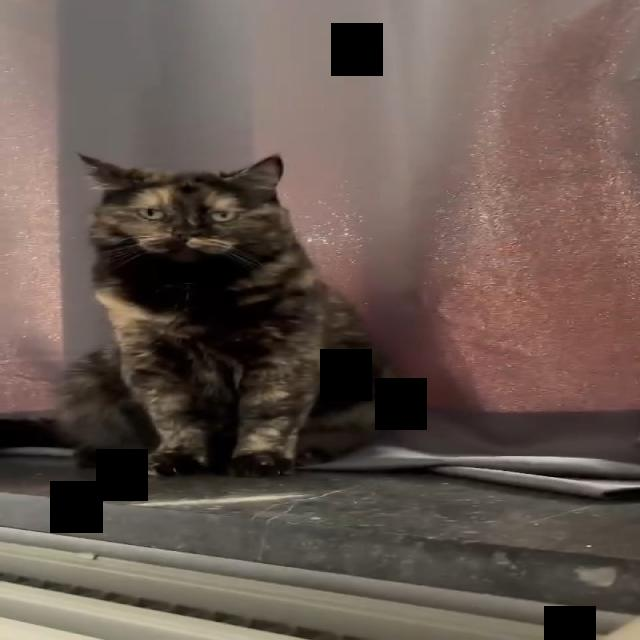authorized: (54, 151, 402, 478)
